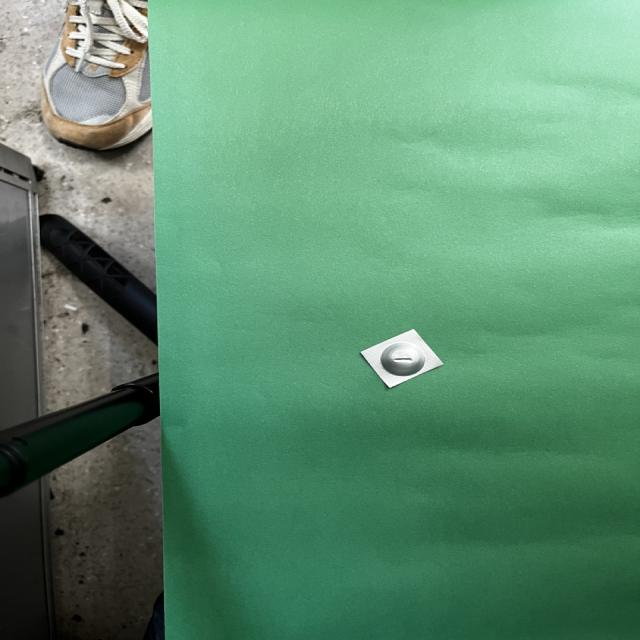Other Objects: (361, 330, 443, 388)
